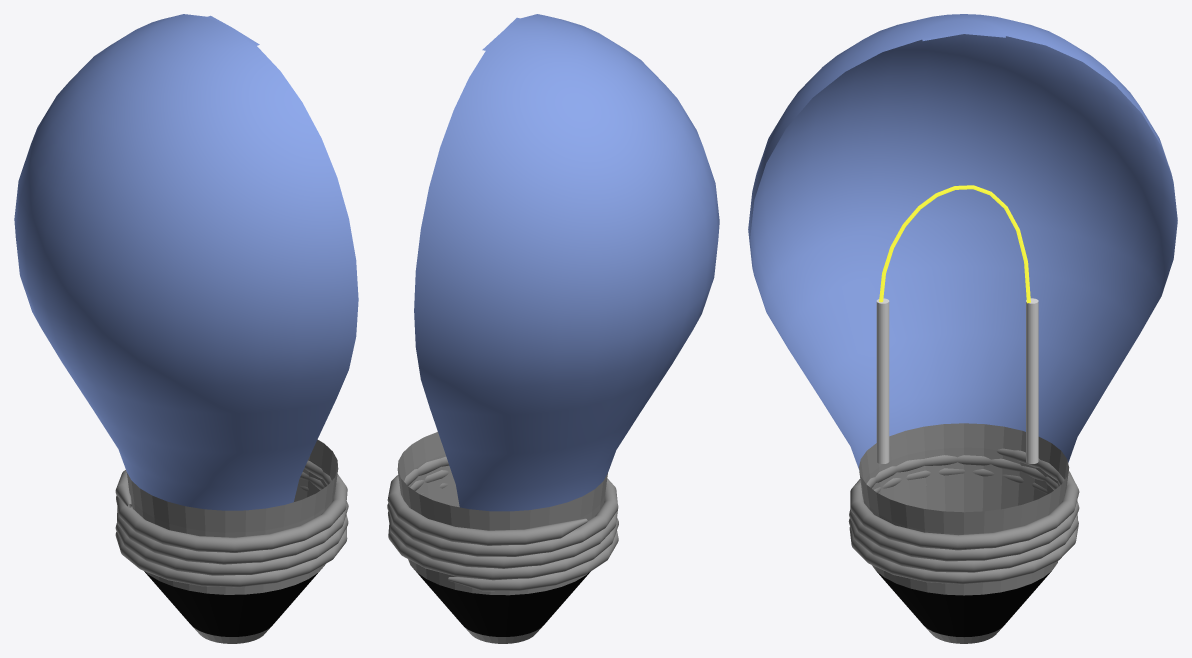
The model's file is bulb2.gltf.
3 views of the same model, side by side, from view 1: azimuth 30°, elevation 25°; view 2: azimuth 150°, elevation 25°; view 3: azimuth 270°, elevation 25° (orthographic).
Visible parts, largest first — view 1: bulbMain, screw, bulbMetal, bulbEnd; view 2: bulbMain, screw, bulbMetal, bulbEnd; view 3: bulbMain, bulbMetal, screw, bulbEnd, Cylinder.001, Cylinder, light.
Boxes of the visible parts, bbox=[...] form: bulbMain: bbox=[14, 14, 358, 510]; screw: bbox=[115, 460, 348, 587]; bulbMetal: bbox=[126, 439, 338, 643]; bulbEnd: bbox=[144, 568, 322, 636]; bulbMain: bbox=[414, 14, 719, 511]; screw: bbox=[387, 456, 618, 591]; bulbMetal: bbox=[397, 432, 607, 643]; bulbEnd: bbox=[416, 571, 590, 636]; bulbMain: bbox=[748, 14, 1177, 470]; bulbMetal: bbox=[859, 423, 1069, 643]; screw: bbox=[848, 448, 1079, 584]; bulbEnd: bbox=[876, 571, 1051, 636]; Cylinder.001: bbox=[876, 298, 889, 463]; Cylinder: bbox=[1026, 298, 1038, 463]; light: bbox=[879, 185, 1030, 303].
Size of the model in its own units: 1.53 by 3.04 by 1.99.
